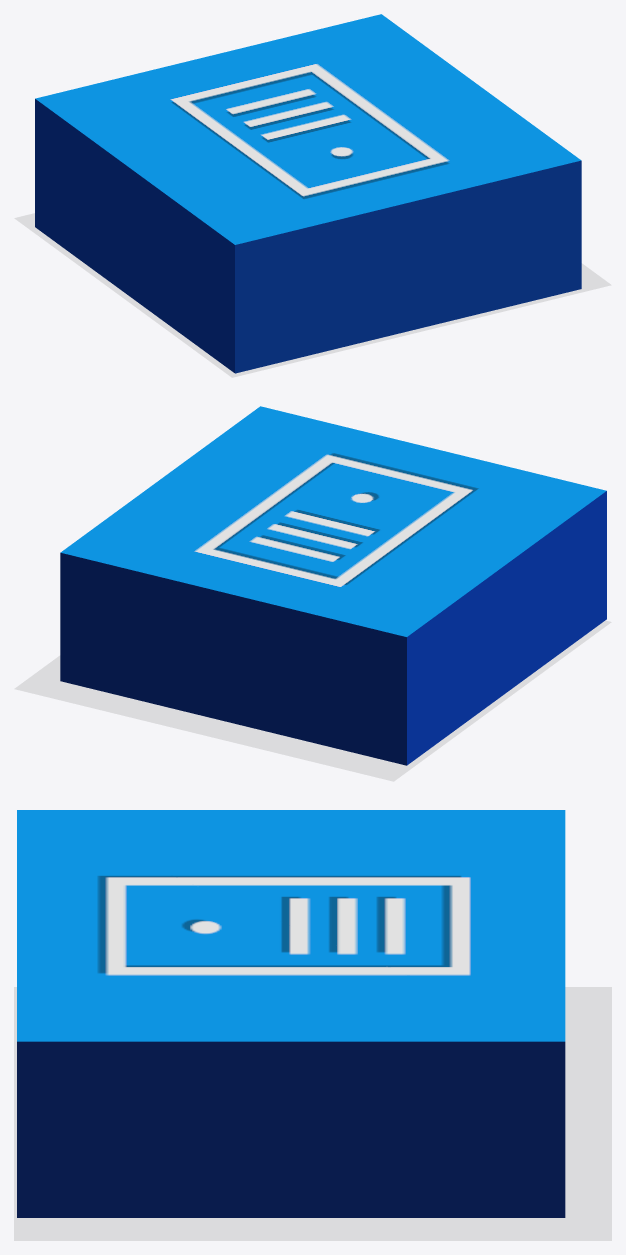
The model's file is tast_icon.dae.
3 views of the same model, one above another, from view 1: azimuth 30°, elevation 25°; view 2: azimuth 150°, elevation 25°; view 3: azimuth 270°, elevation 25° (orthographic). The views are drawn at different scales.
Parts seen in each view (by area): view 1: polySurface2, polySurface7, polySurface10; view 2: polySurface2, polySurface4, polySurface10; view 3: polySurface2, polySurface6.
Boxes of the visible parts, bbox=[...] form: polySurface2: bbox=[35, 14, 581, 244]; polySurface7: bbox=[235, 160, 581, 373]; polySurface10: bbox=[35, 99, 234, 372]; polySurface2: bbox=[61, 406, 606, 636]; polySurface4: bbox=[60, 552, 406, 765]; polySurface10: bbox=[407, 491, 606, 765]; polySurface2: bbox=[17, 810, 565, 1041]; polySurface6: bbox=[17, 1041, 565, 1217].
Bounding box in the file's own units: 1.1 × 0.3615 × 1.09.
